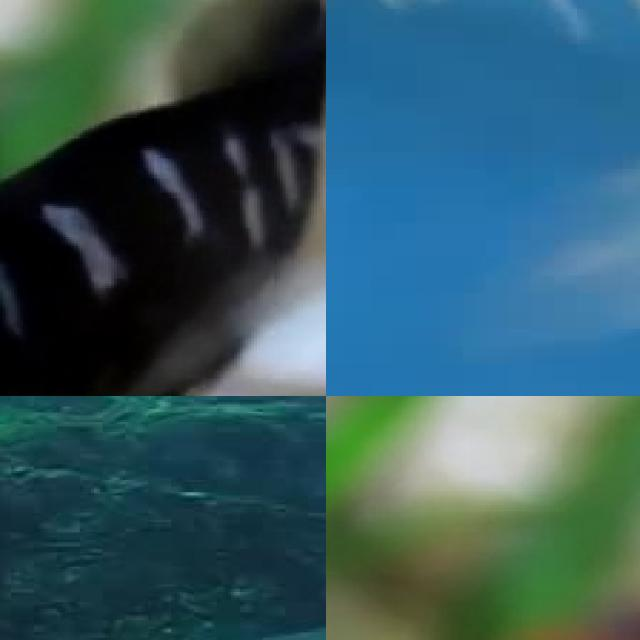fish: (0, 0, 326, 396), (326, 0, 640, 315), (390, 536, 640, 640)
